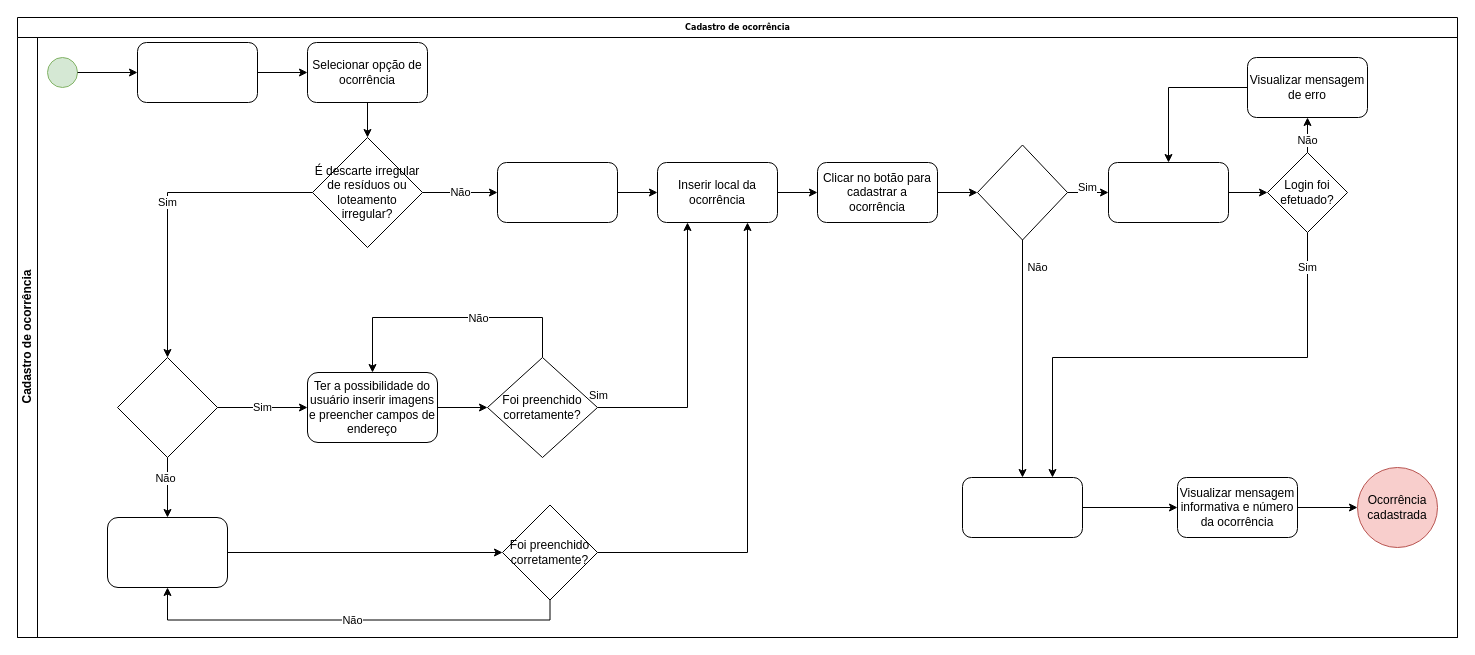
This 1475x655 diagram has some shape labels left out. The box of each missing label's shape, as (x1, y1, x2, y2) in pixels:
Acessar tela de cadastro de ocorrência: (136, 42, 258, 102)
Cadastro da ocorrência é realizada: (962, 476, 1082, 538)
Encaminhar o usuário para tela de login: (1108, 162, 1228, 222)
Inserir imagem e descrição da ocorrência: (496, 162, 618, 222)
Ter a possibilidade de p reencher campos relativos a área irregular: (106, 516, 228, 588)
Token de login está expirado?: (976, 144, 1068, 240)
É descarte irregular de resíduos?: (116, 356, 218, 458)
